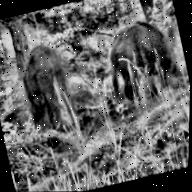boar: (95, 8, 192, 112), (1, 35, 89, 143)
